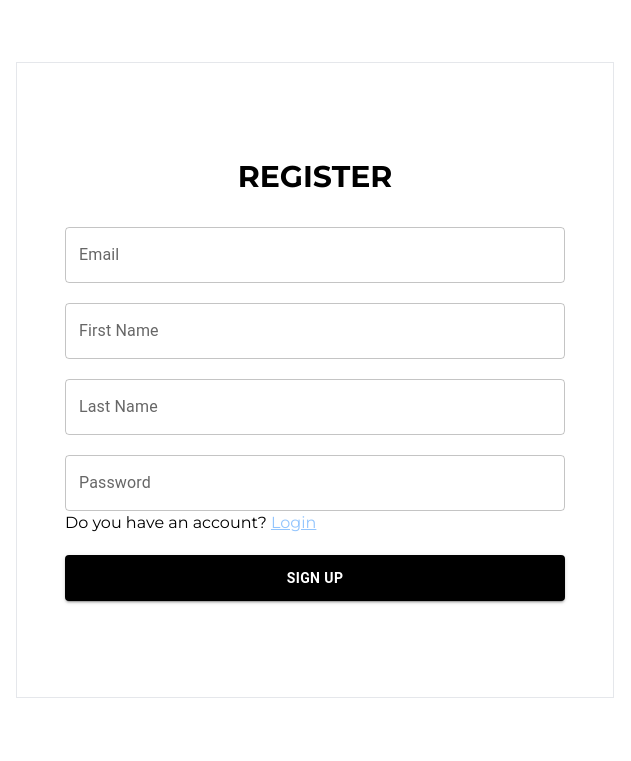
Test: Register › should validate the register form
The width and height of the screenshot is (631, 761).
Click the button "Sign Up" at (315, 578), box [65,555,565,601]
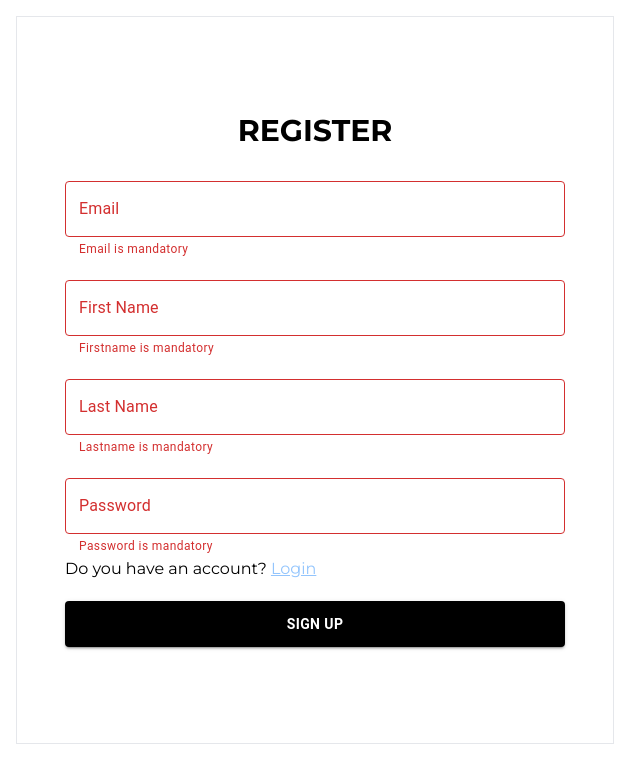
Expected: the text "Email is mandatory" is shown, [79,242,188,256]
Expected: the text "Firstname is mandatory" is shown, [79,341,214,355]
Expected: the text "Lastname is mandatory" is shown, [79,440,213,454]
